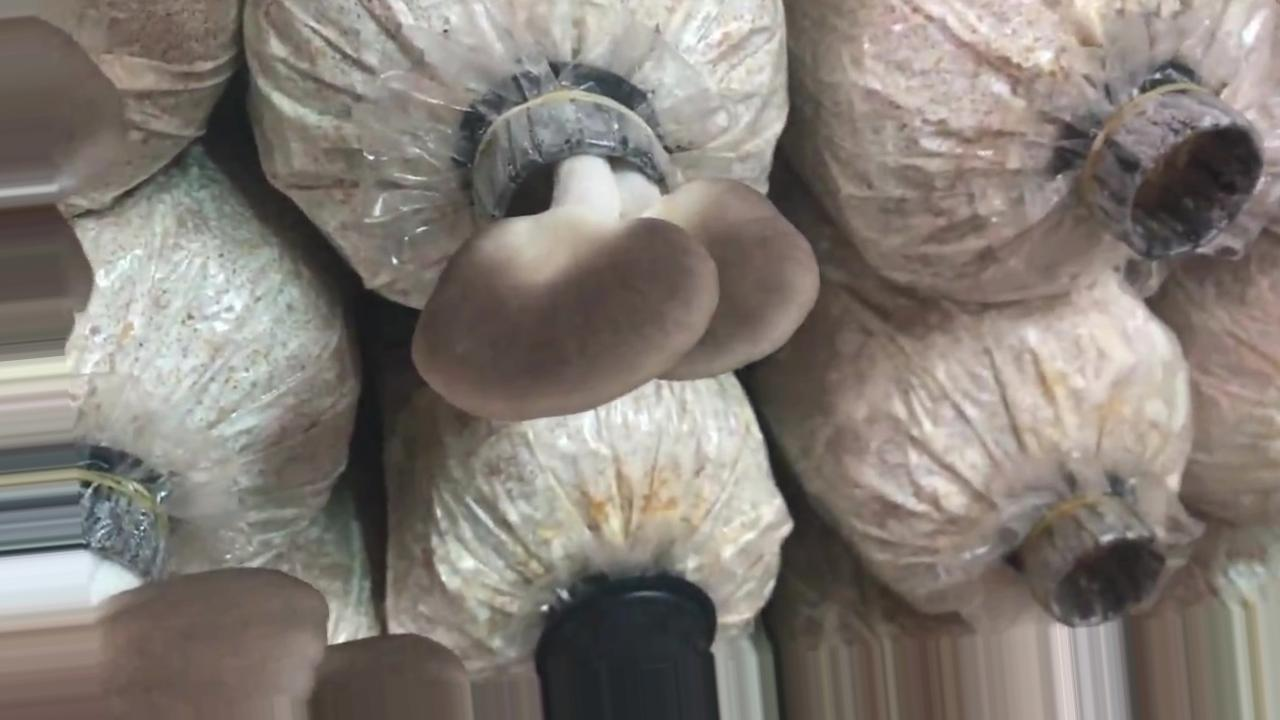nam: (414, 84, 821, 421), (1, 455, 474, 720), (1, 17, 128, 363)
